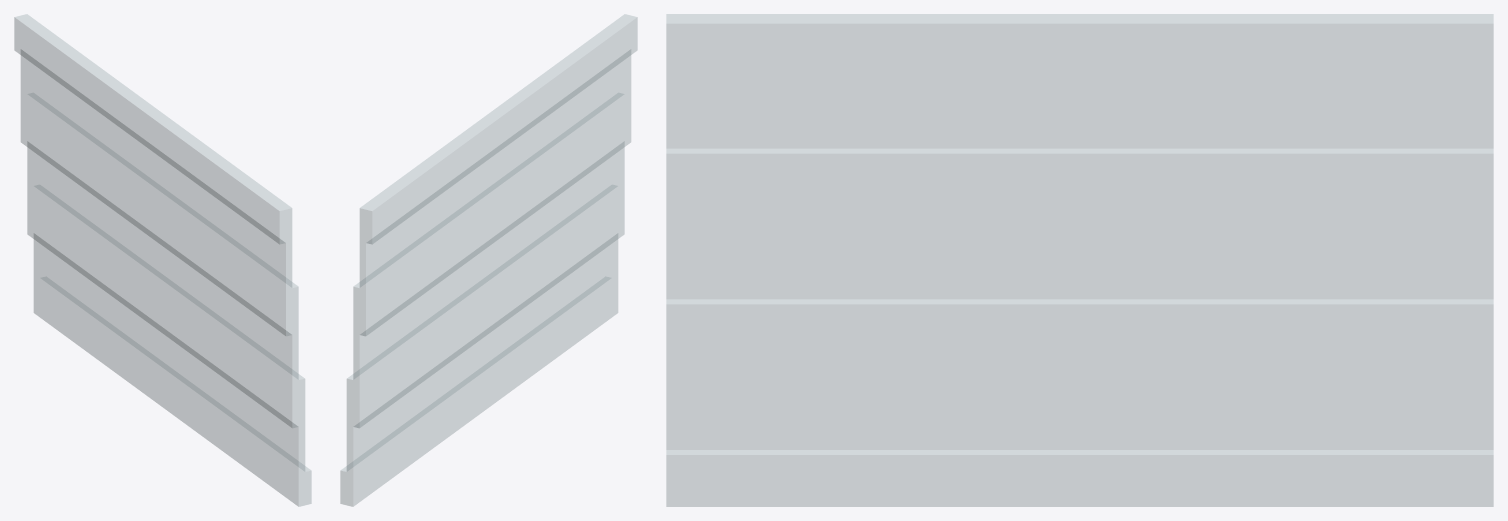
File: shuttle_bus_windscreen.glb
3 views of the same model, side by side, from view 1: azimuth 30°, elevation 25°; view 2: azimuth 150°, elevation 25°; view 3: azimuth 270°, elevation 25° (orthographic). The views are drawn at different scales.
Visible parts, largest first — view 1: body:compound; view 2: body:compound; view 3: body:compound.
Boxes of the visible parts, x1,y1,x2,y2 form: body:compound: (14,14,311,506); body:compound: (340,14,637,506); body:compound: (666,14,1493,506).
Bounding box in the file's own units: 0.1562 × 1.41 × 2.25.
